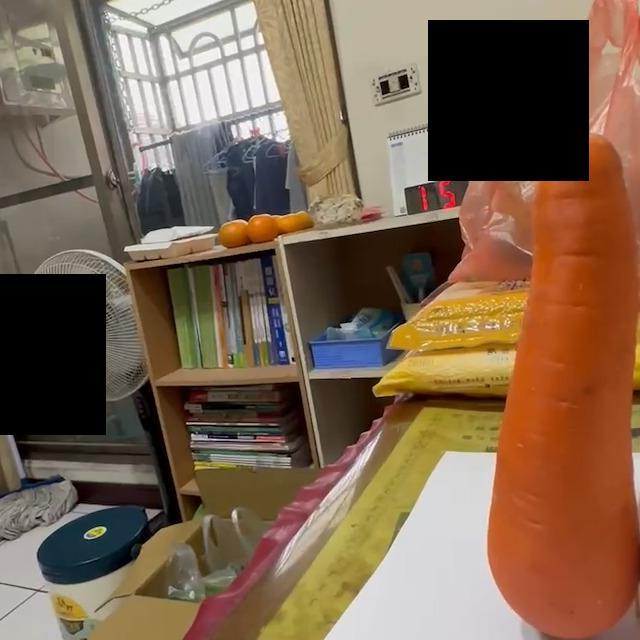carrot: (486, 126, 640, 637)
